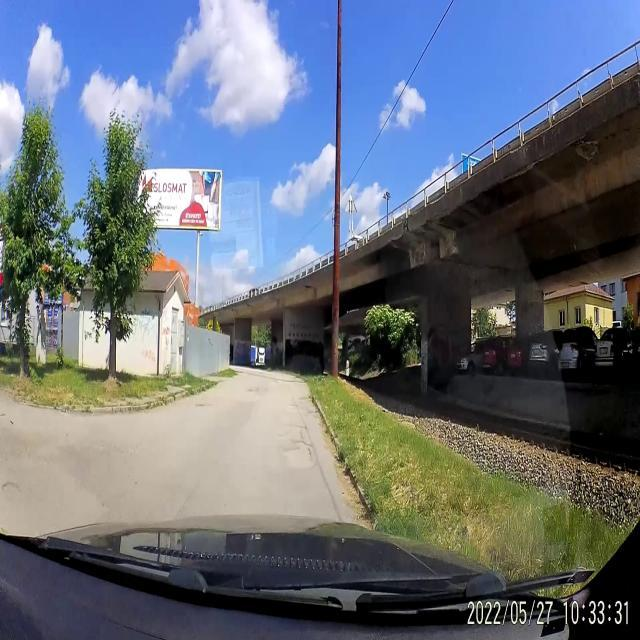Pothole: (282, 438, 314, 472)
